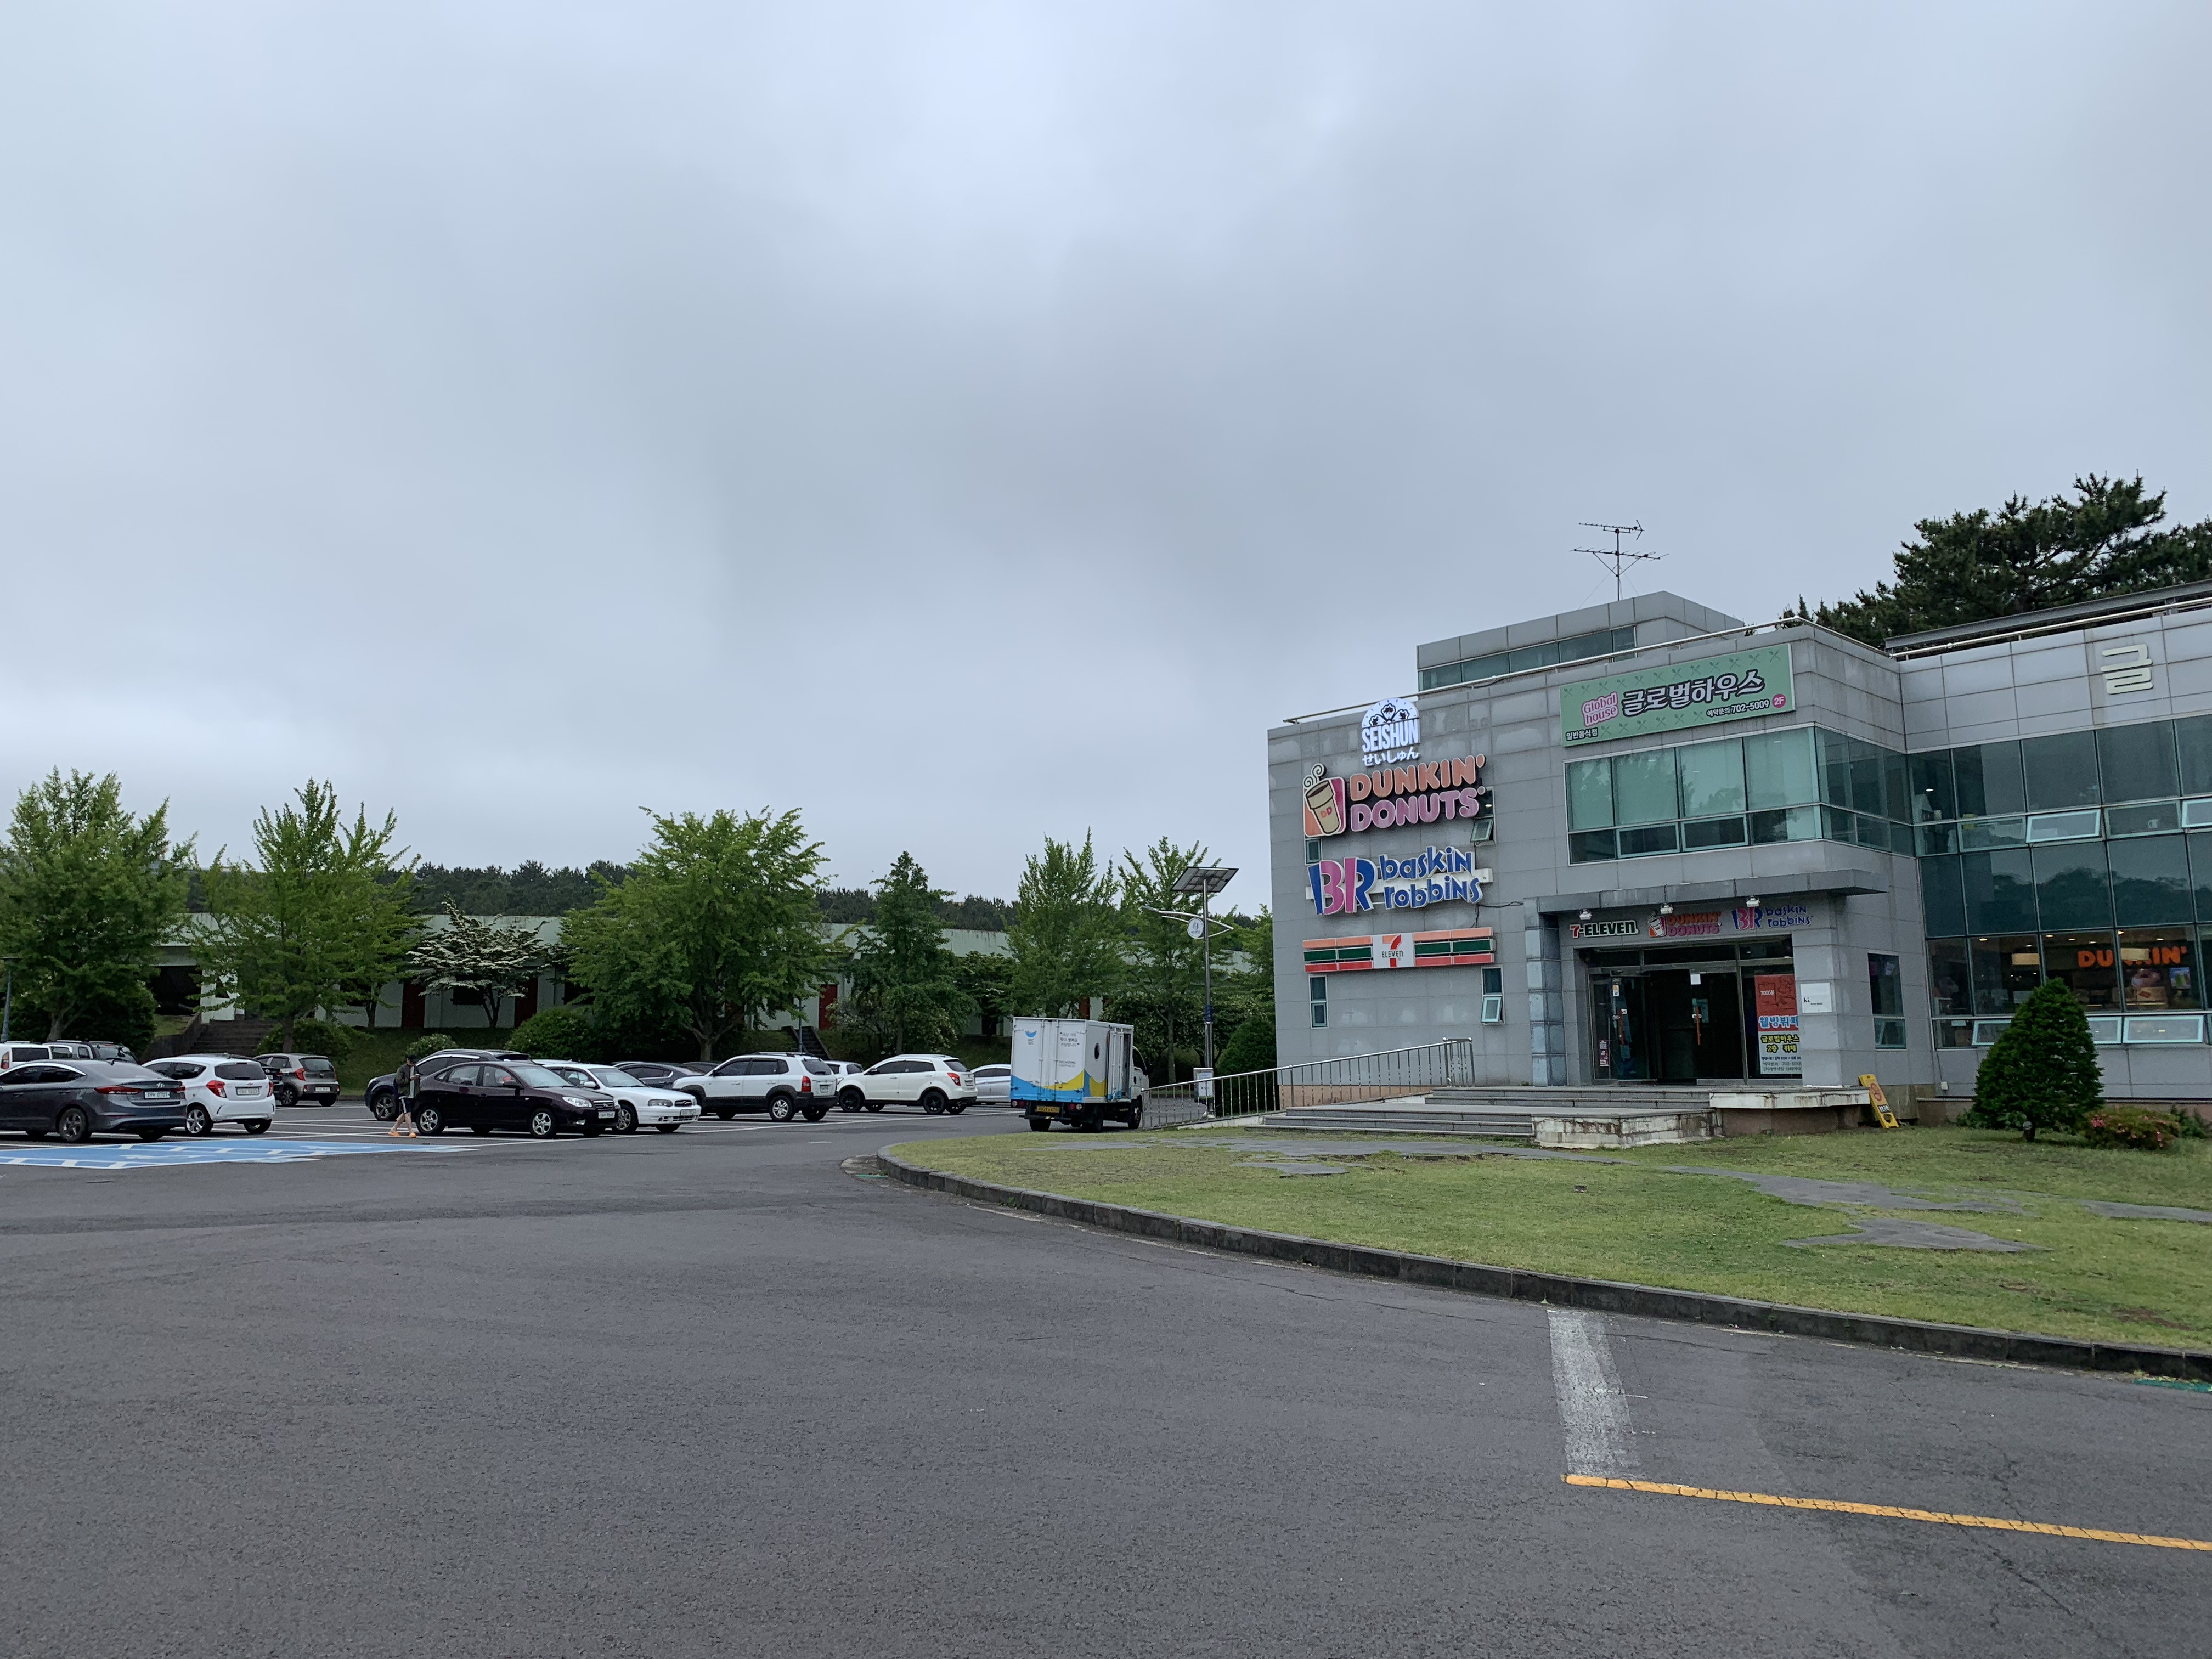Global House: (1240, 577, 2205, 1110)
